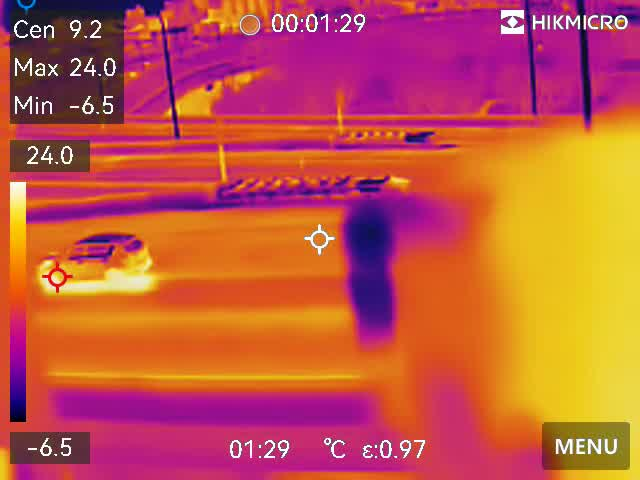largeCar: (28, 231, 155, 291)
